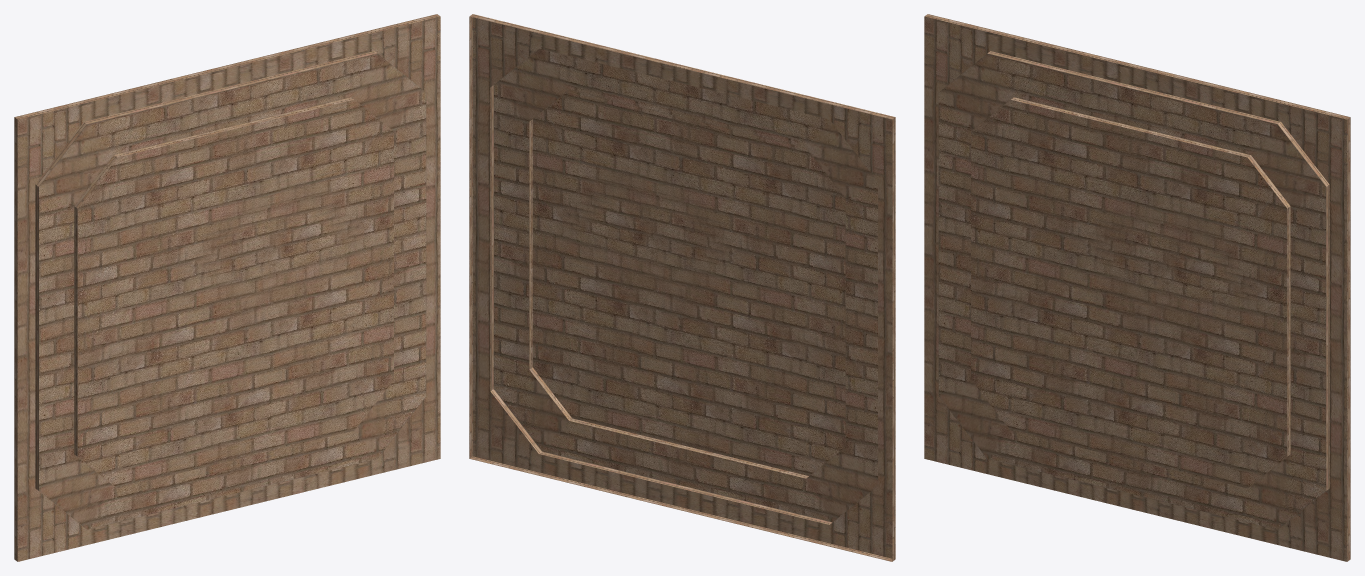
The model's file is stonebase1.obj.
3 renders of one model, left to right at view 1: azimuth 30°, elevation 25°; view 2: azimuth 150°, elevation 25°; view 3: azimuth 330°, elevation 25°, orthographic.
Size of the model in its own units: 7.99 by 7.99 by 0.3296.
